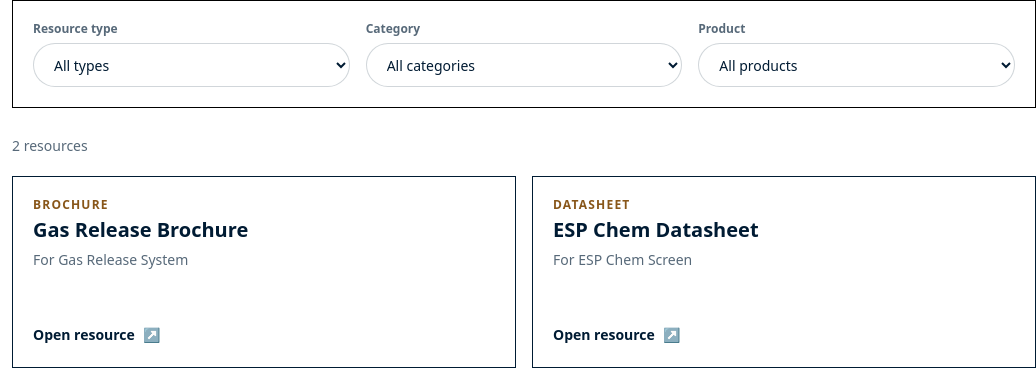
ResourceListClient › filters by kind
Select "Datasheet" in the dropdown named "Filter by type": (191, 65) [33,43,350,87]
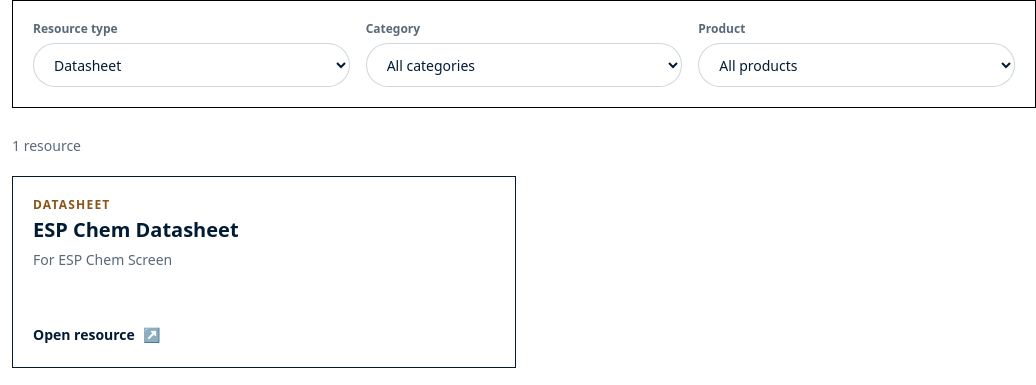
Expected: the heading "ESP Chem Datasheet" is shown, [33,216,239,243]
Expected: the heading "Gas Release Brochure" is gone
